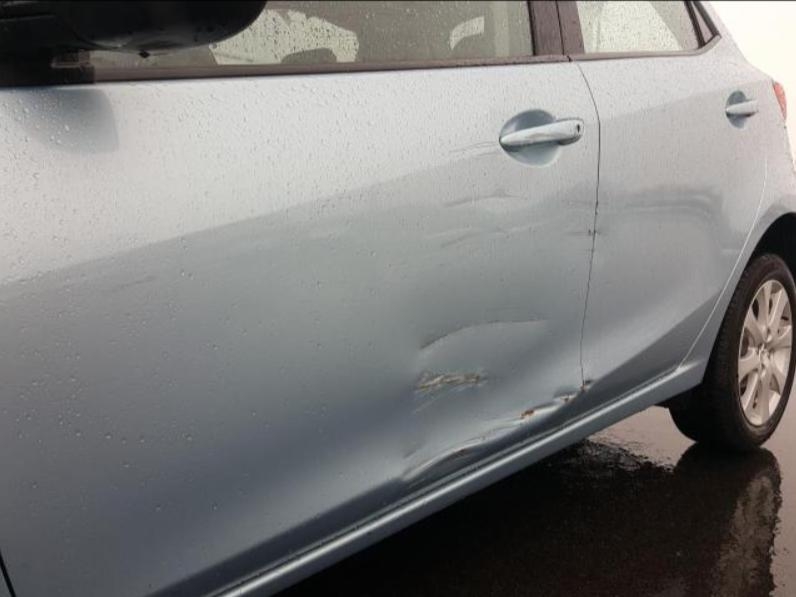Dent: (401, 376, 600, 489)
Paint damage: (412, 368, 489, 415)
Scratch: (431, 183, 724, 240), (419, 316, 551, 358)
